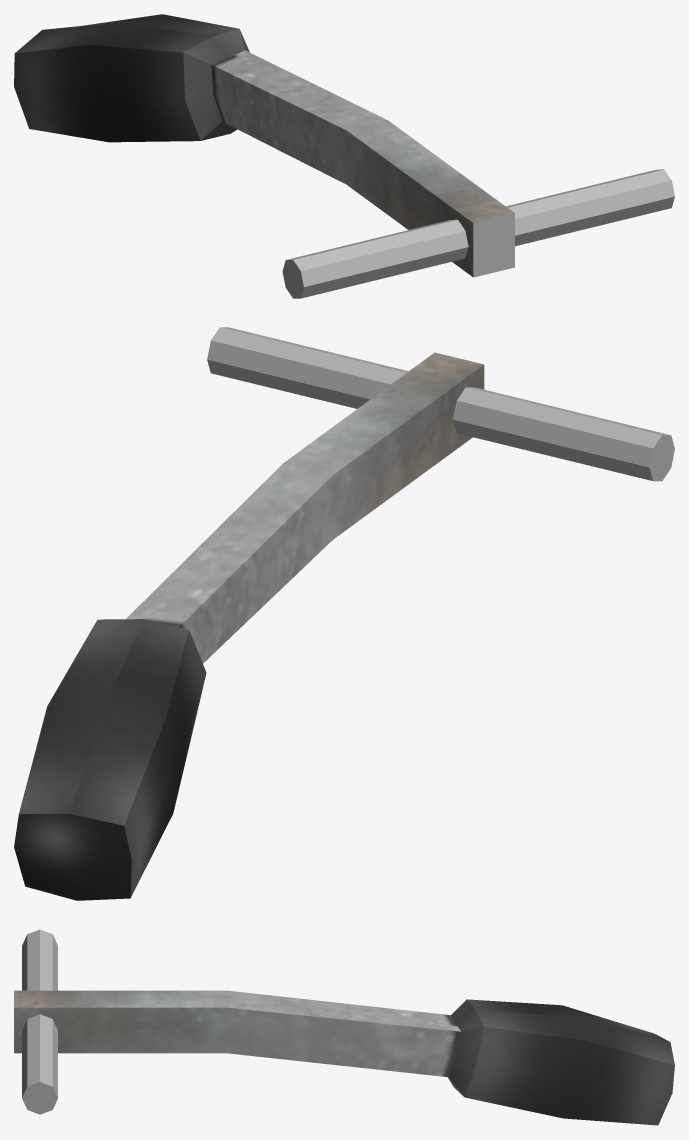
The model's file is object_stick01.dae.
The picture shows the model from 3 angles, top to bottom: view 1: azimuth 30°, elevation 25°; view 2: azimuth 150°, elevation 25°; view 3: azimuth 270°, elevation 25°; orthographic projection. The views are drawn at different scales.
Parts seen in each view (by area): view 1: stick, _joint_hinge_stick_null_10_20_nocollide_joint1; view 2: stick, _joint_hinge_stick_null_10_20_nocollide_joint1; view 3: stick, _joint_hinge_stick_null_10_20_nocollide_joint1.
Boxes of the visible parts, x1,y1,x2,y2 form: stick: (14,14,514,277); _joint_hinge_stick_null_10_20_nocollide_joint1: (282,169,674,298); stick: (14,352,484,900); _joint_hinge_stick_null_10_20_nocollide_joint1: (207,327,674,481); stick: (14,990,674,1125); _joint_hinge_stick_null_10_20_nocollide_joint1: (22,929,57,1114).
Size of what is drawn, in the model's own units: 0.2105 by 0.0892 by 0.3854.
